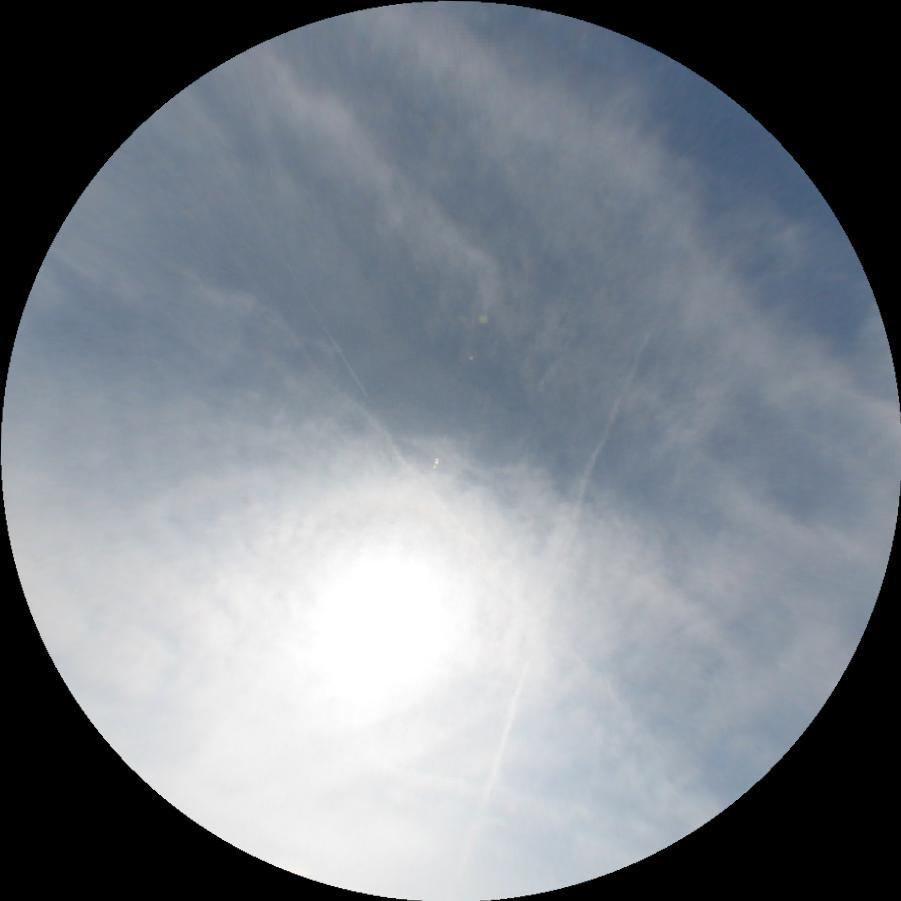contrail old: (443, 324, 652, 850)
contrail young: (291, 276, 369, 399)
sun: (268, 521, 489, 742)
